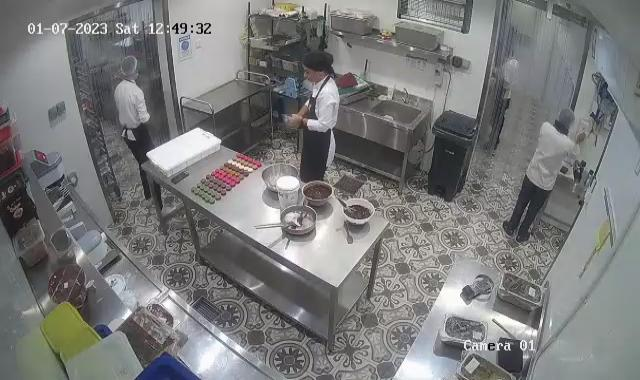hairnet: (120, 54, 142, 79), (556, 108, 576, 133)
no_hairnet: (301, 52, 334, 76)
